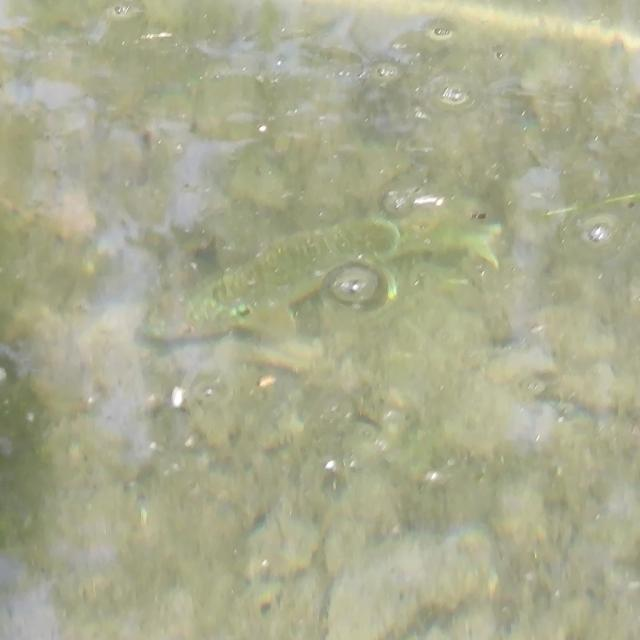Gunes Levregi: (144, 189, 500, 349)
